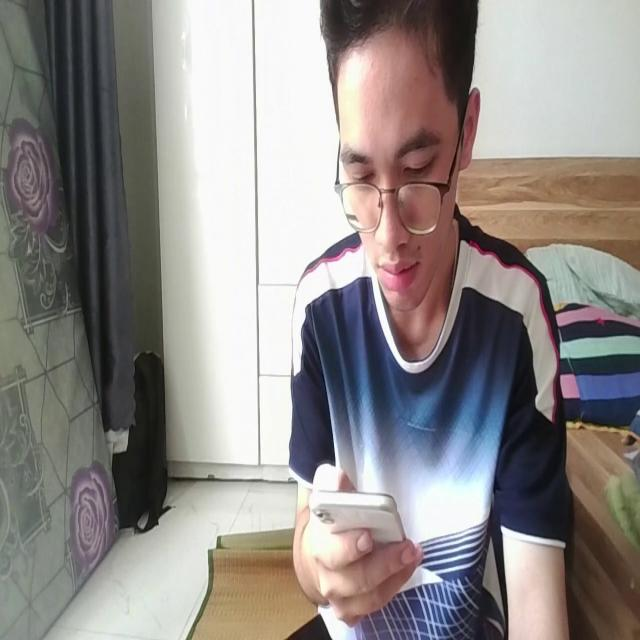phone: (308, 482, 412, 556)
student: (284, 0, 572, 640)
